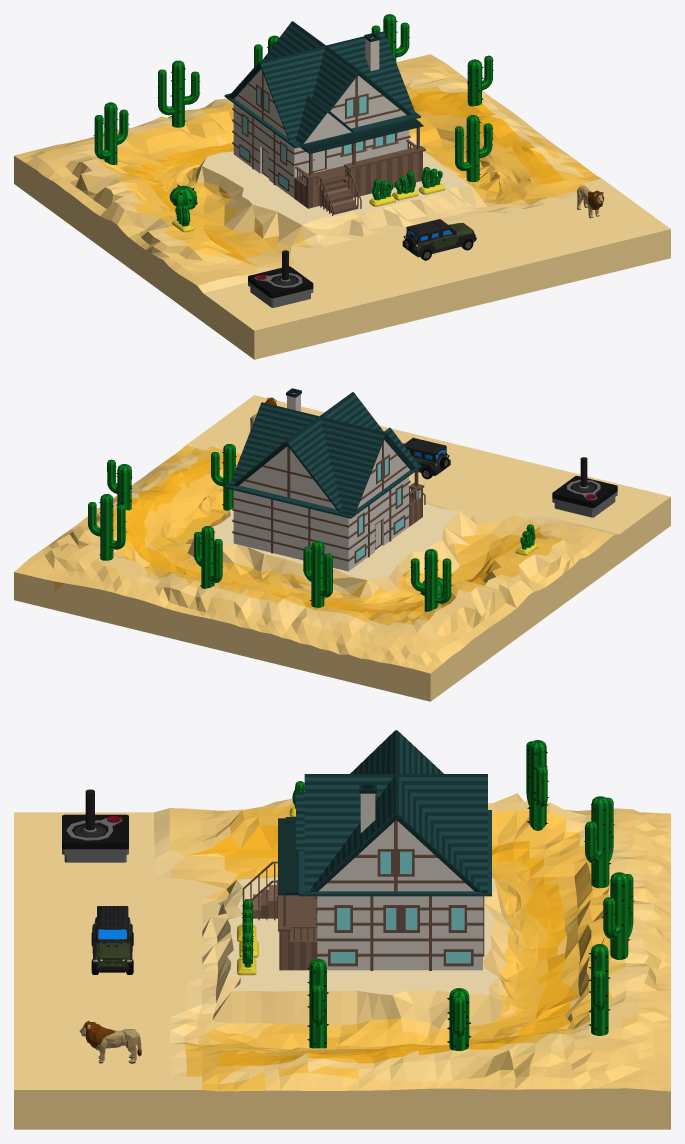
The picture shows the model from 3 angles, top to bottom: view 1: azimuth 30°, elevation 25°; view 2: azimuth 150°, elevation 25°; view 3: azimuth 270°, elevation 25°; orthographic projection. The views are drawn at different scales.
Visible parts, largest first — view 1: Cube.001, Cube.793, OBJRANDOM_JOYSTICK, VEHICLES_JEEP, Cylinder.037, Cylinder.044, Cylinder.045, Cylinder.038, Cylinder.042, ANIMAL_LEON, Cylinder.039, Cylinder.041 (+2 smaller); view 2: Cube.001, Cube.793, OBJRANDOM_JOYSTICK, Cylinder.042, Cylinder.045, Cylinder.044, Cylinder.043, VEHICLES_JEEP, Cylinder.037, Cylinder.038; view 3: Cube.001, Cube.793, OBJRANDOM_JOYSTICK, VEHICLES_JEEP, Cylinder.043, Cylinder.044, Cylinder.045, Cylinder.042, Cylinder.037, ANIMAL_LEON, Cylinder.038, Cylinder.041.
Part boxes in pixels (bbox=[...]): Cube.001: bbox=[14, 54, 670, 359]; Cube.793: bbox=[224, 21, 425, 215]; OBJRANDOM_JOYSTICK: bbox=[248, 250, 313, 307]; VEHICLES_JEEP: bbox=[402, 219, 476, 260]; Cylinder.037: bbox=[454, 115, 493, 182]; Cylinder.044: bbox=[157, 60, 200, 127]; Cylinder.045: bbox=[93, 102, 129, 164]; Cylinder.038: bbox=[467, 55, 493, 106]; Cylinder.042: bbox=[371, 14, 409, 62]; ANIMAL_LEON: bbox=[577, 185, 604, 218]; Cylinder.039: bbox=[369, 179, 395, 206]; Cylinder.041: bbox=[418, 167, 445, 194]; Cube.001: bbox=[14, 395, 670, 701]; Cube.793: bbox=[225, 388, 425, 571]; OBJRANDOM_JOYSTICK: bbox=[552, 457, 617, 517]; Cylinder.042: bbox=[88, 494, 126, 560]; Cylinder.045: bbox=[410, 549, 452, 611]; Cylinder.044: bbox=[303, 540, 333, 607]; Cylinder.043: bbox=[193, 526, 222, 588]; VEHICLES_JEEP: bbox=[403, 437, 450, 479]; Cylinder.037: bbox=[211, 444, 240, 510]; Cylinder.038: bbox=[107, 459, 131, 510]; Cube.001: bbox=[14, 793, 670, 1129]; Cube.793: bbox=[242, 730, 491, 970]; OBJRANDOM_JOYSTICK: bbox=[62, 789, 128, 862]; VEHICLES_JEEP: bbox=[91, 906, 133, 974]; Cylinder.043: bbox=[602, 872, 634, 959]; Cylinder.044: bbox=[584, 796, 614, 888]; Cylinder.045: bbox=[526, 740, 548, 830]; Cylinder.042: bbox=[588, 944, 610, 1035]; Cylinder.037: bbox=[307, 958, 328, 1048]; ANIMAL_LEON: bbox=[79, 1020, 141, 1063]; Cylinder.038: bbox=[447, 988, 471, 1050]; Cylinder.041: bbox=[237, 932, 256, 975].
Size of the model in its own units: 4002 by 1630 by 4001.
30 materials, 3 textured.
